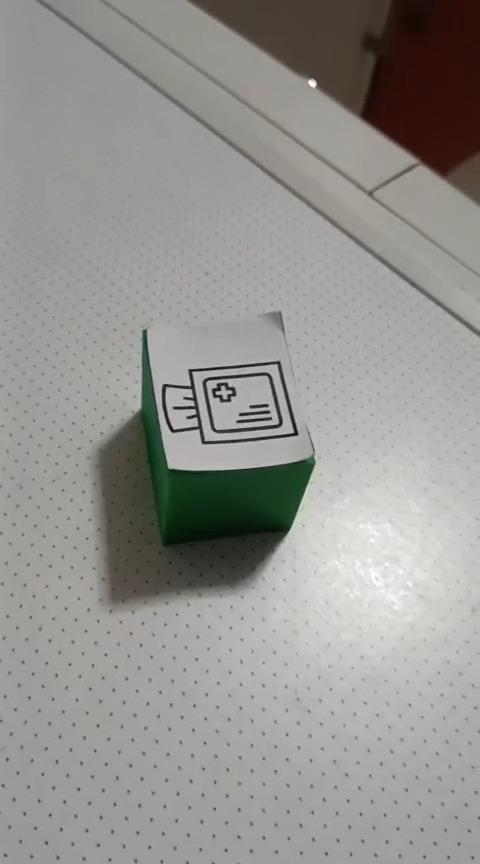Gauze: (138, 308, 316, 546)
